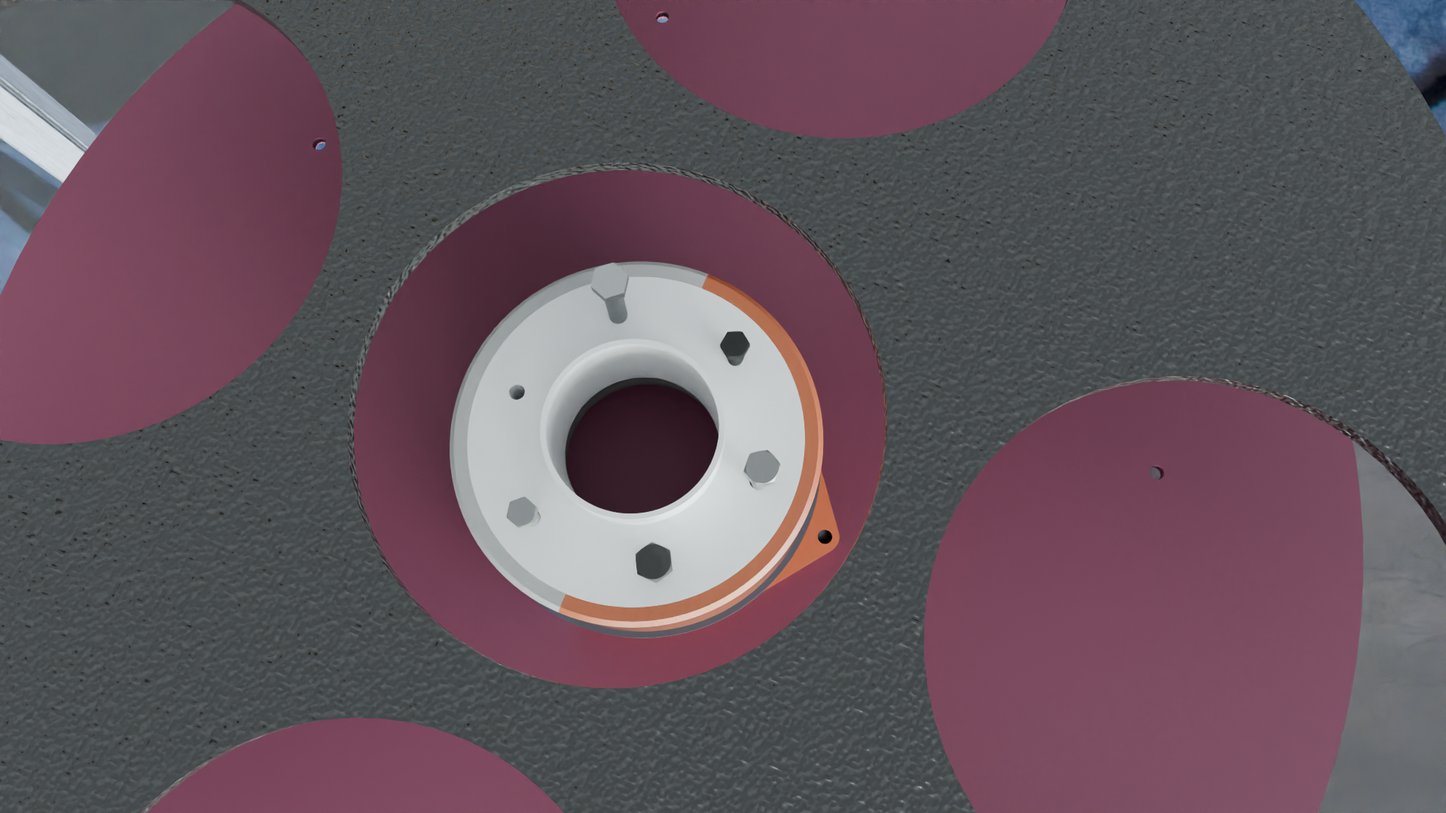bolt: (636, 542, 672, 582), (590, 263, 628, 299), (743, 450, 780, 486), (506, 497, 536, 528), (720, 331, 750, 357)
